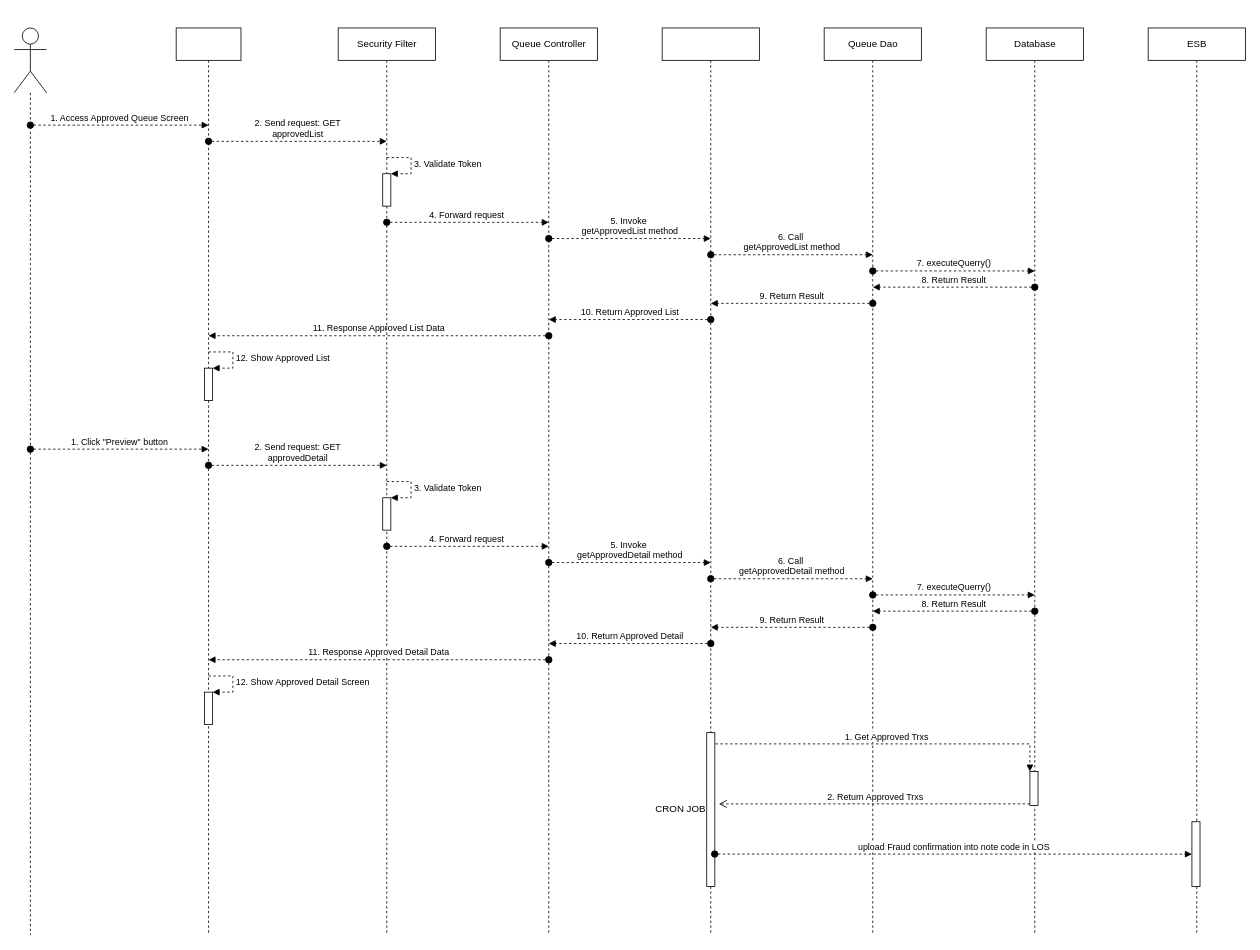
This 1260x950 diagram has some shape labels left out. The box of each missing label's shape, as (x1, y1, x2, y2) in pixels:
Browser: (175, 27, 241, 60)
Queue Service: (661, 27, 759, 60)
User: (13, 27, 47, 93)
